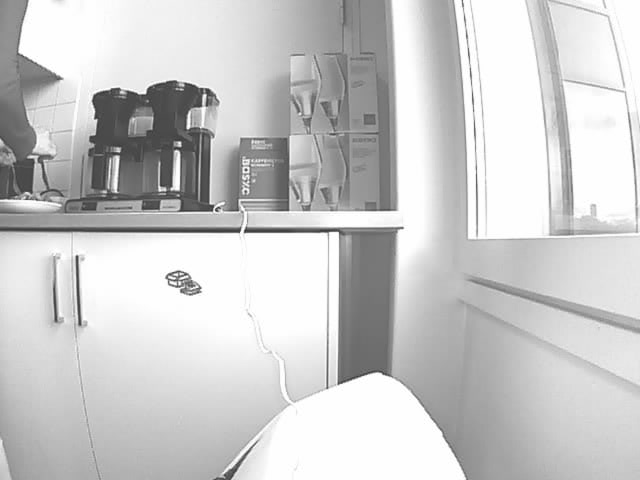empty coffee: (87, 145, 139, 198)
